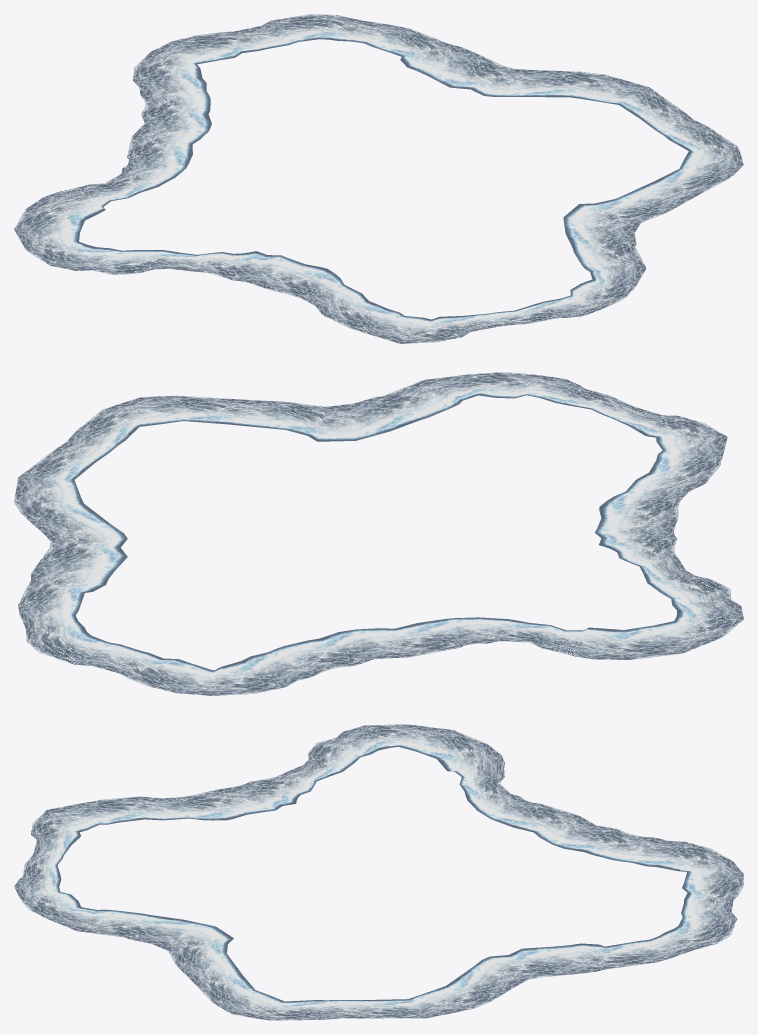
The model's file is island_11_coast.fbx.
3 views of the same model, one above another, from view 1: azimuth 30°, elevation 25°; view 2: azimuth 150°, elevation 25°; view 3: azimuth 270°, elevation 25° (orthographic). The views are drawn at different scales.
Visible parts, largest first — view 1: island_11_coast1; view 2: island_11_coast1; view 3: island_11_coast1.
Part boxes in pixels (x1,y1,x2,y2): island_11_coast1: (14, 14, 743, 343); island_11_coast1: (14, 372, 743, 695); island_11_coast1: (14, 724, 743, 1020).
Bounding box in the file's own units: 0.8125 × 0 × 0.8451.
Materials: 1 (1 with a texture image).
